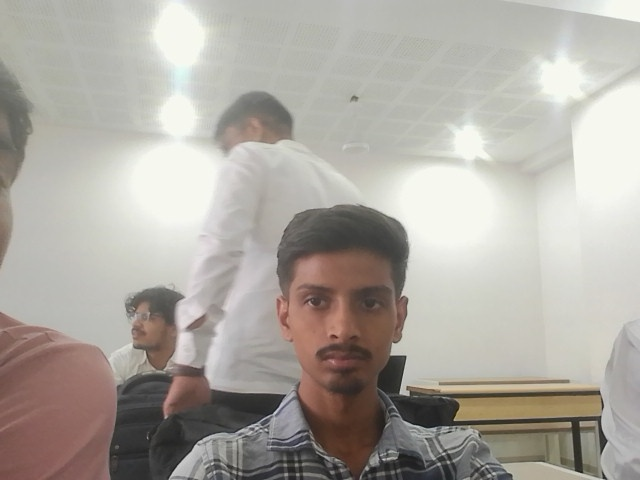fan_on: (340, 94, 369, 154)
light_on: (131, 17, 219, 146), (400, 119, 526, 173), (536, 67, 601, 110)
person: (165, 203, 518, 479), (170, 92, 398, 421), (0, 41, 123, 478), (109, 285, 196, 479), (599, 312, 639, 479)
